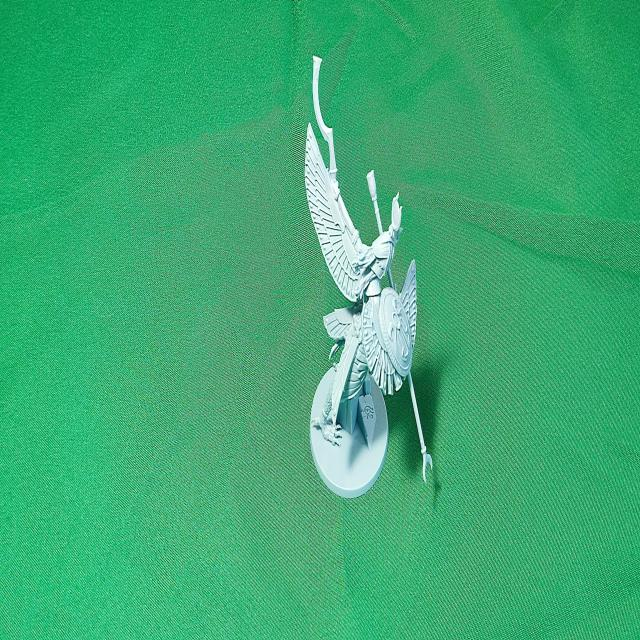isis: (288, 0, 443, 640)
